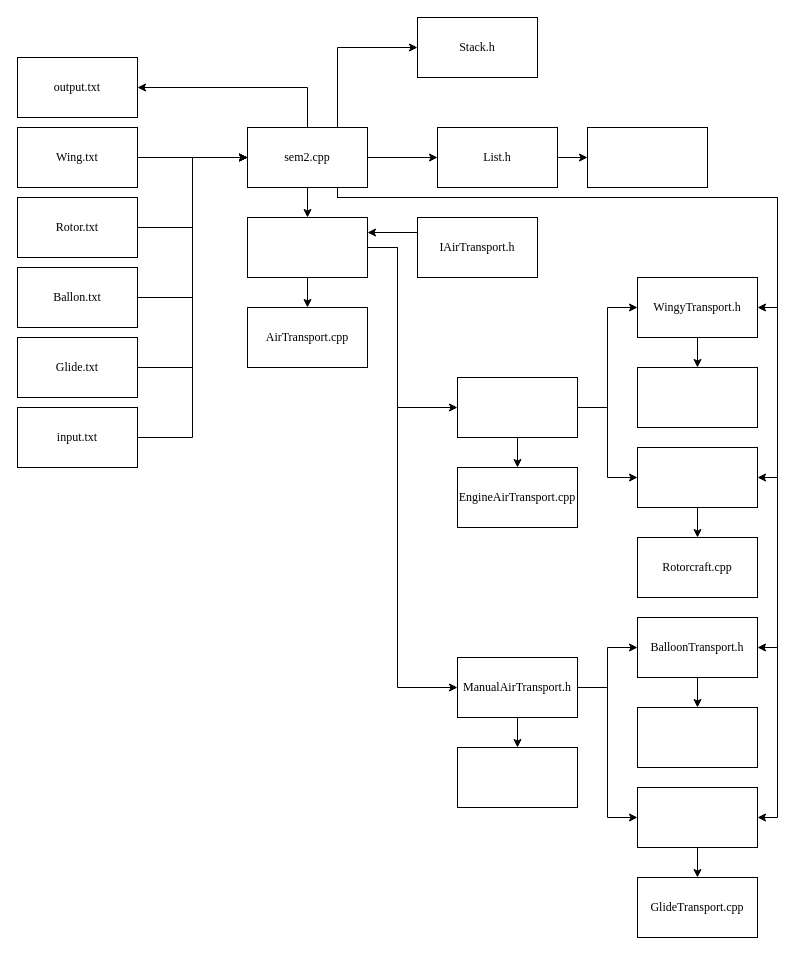
Some shapes in this 803 by 955 pixel diagram are drawn without their labels. Each missing label, with the box of its shape:
AirTransport.h: (246, 216, 368, 278)
BalloonTransport.cpp: (636, 706, 758, 768)
EngineAirTransport.h: (456, 376, 578, 438)
GlideTransport.h: (636, 786, 758, 848)
ListVoid.h: (586, 126, 708, 188)
ManualAirTransport.cpp: (456, 746, 578, 808)
Rotorcraftt.h: (636, 446, 758, 508)
WingyTransport.cpp: (636, 366, 758, 428)
